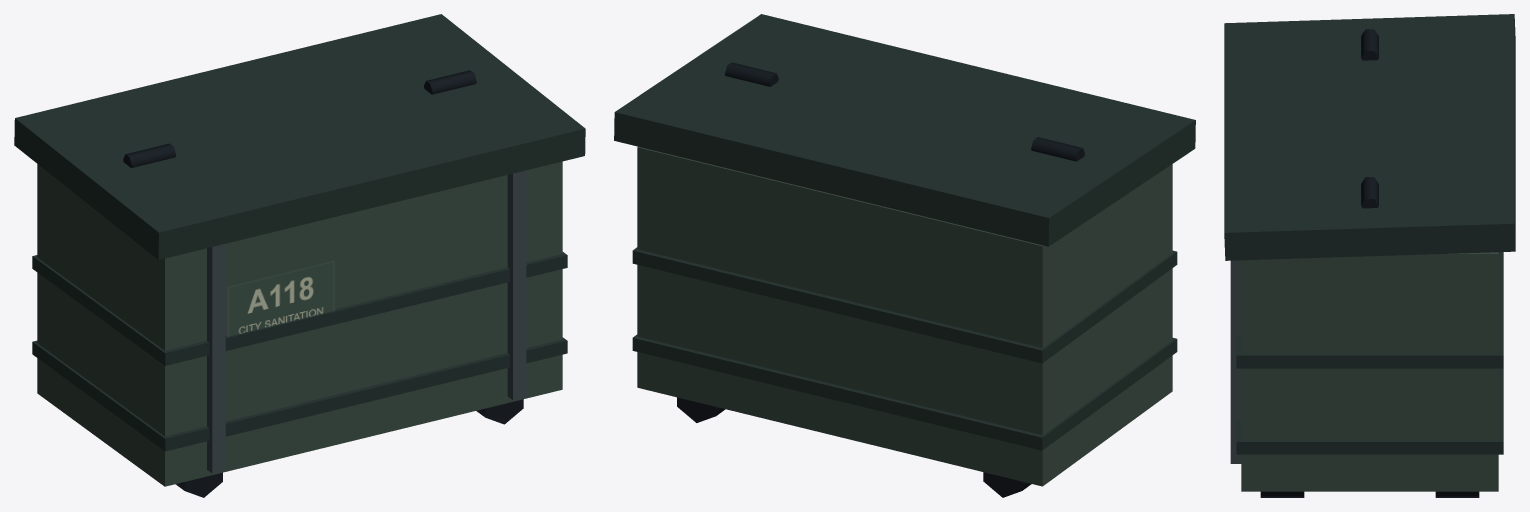
The model's file is la-dumpster.glb.
3 renders of one model, left to right at view 1: azimuth 30°, elevation 25°; view 2: azimuth 150°, elevation 25°; view 3: azimuth 270°, elevation 25°, orthographic.
Parts seen in each view (by area): view 1: la-dumpster; view 2: la-dumpster; view 3: la-dumpster.
Part boxes in pixels (x1,y1,x2,y2): la-dumpster: [14, 14, 585, 497]; la-dumpster: [614, 14, 1195, 497]; la-dumpster: [1224, 14, 1515, 497].
Bounding box in the file's own units: 1.93 × 1.33 × 1.13.
Materials: 2 (1 with a texture image).
